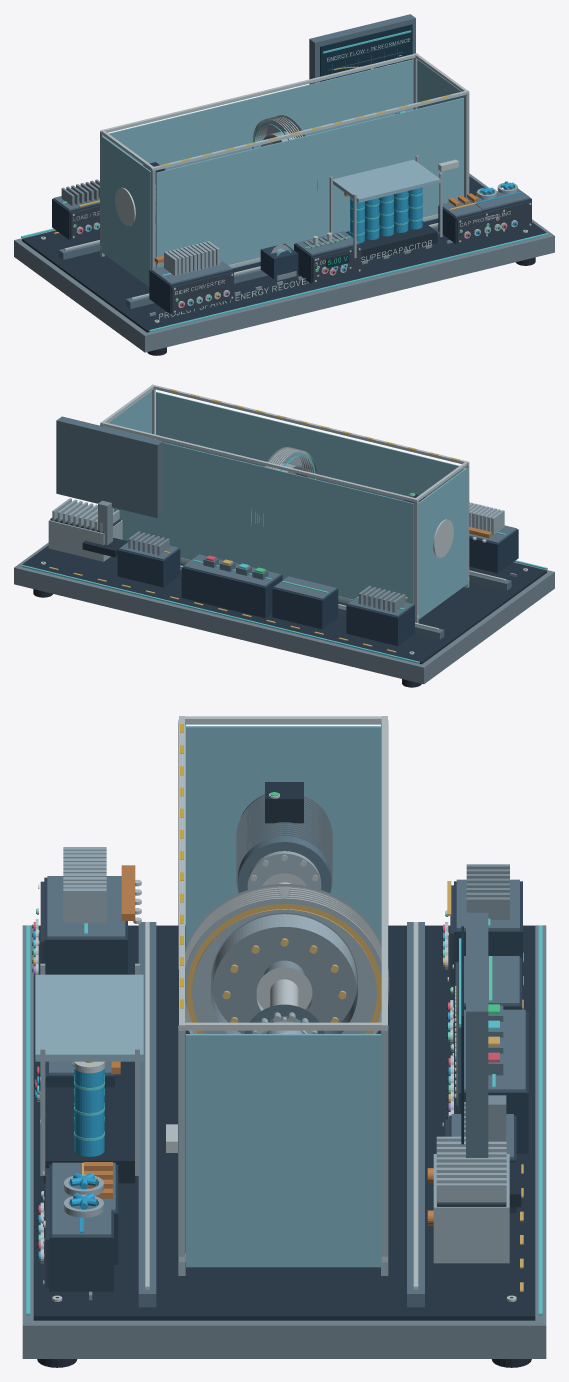
The model's file is Level56_Complete_ArtKit_Showcase.glb.
The picture shows the model from 3 angles, top to bottom: view 1: azimuth 30°, elevation 25°; view 2: azimuth 150°, elevation 25°; view 3: azimuth 270°, elevation 25°; orthographic projection. The views are drawn at different scales.
Parts seen in each view (by area): view 1: L56_SafetyGuard__GuardFrontAcrylic, L56_SafetyGuard__GuardRearAcrylic, L56_IndustrialBase__Chassis_MachinedTitanium, L56_IndustrialBase__CarbonDeck, L56_SafetyGuard__GuardEndPanel_-3.27, L56_EnergyFlowMonitor__DisplayBlackGlass, L56_SupercapacitorBank__BankProtectiveTop, L56_EnergyFlowMonitor__DisplayFrame, L56_SafetyGuard__GuardLongRail_2.53_-0.9, L56_SupercapacitorBank__CapacitorCradle, L56_BidirectionalConverter__BidirectionalConverter_Face, L56_SafetyGuard__GuardLongRail_2.53_0.92 (+25 smaller); view 2: L56_SafetyGuard__GuardRearAcrylic, L56_SafetyGuard__GuardFrontAcrylic, L56_IndustrialBase__Chassis_MachinedTitanium, L56_IndustrialBase__CarbonDeck, L56_EnergyFlowMonitor__DisplayFrame, L56_SafetyGuard__GuardEndPanel_-3.27, L56_RegenerationController__RegenerationController_Chassis, L56_ProgrammableLoad__ProgrammableLoad_Chassis, L56_EnergyMeter__EnergyMeter_Chassis, L56_BrakeChopperDriver__BrakeChopper_Chassis, L56_BrakingResistor__BrakingResistor_CeramicBlock, L56_SafetyGuard__GuardLongRail_2.53_-0.9 (+14 smaller); view 3: L56_IndustrialBase__CarbonDeck, L56_SafetyGuard__GuardEndPanel_3.27, L56_IndustrialBase__Chassis_MachinedTitanium, L56_SafetyGuard__GuardEndPanel_-3.27, L56_SupercapacitorBank__BankProtectiveTop, L56_FlywheelRotor__FlywheelCarbonCore, L56_FlywheelRotor__FlywheelForgedOuterRim, L56_EnergyFlowMonitor__DisplayFrame, L56_IndustrialBase__MountRail_1.23, L56_IndustrialBase__MountRail_-1.18, L56_SupercapacitorBank__CapacitorCradle, L56_BrakingResistor__BrakingResistor_CeramicBlock (+31 smaller).
Part boxes in pixels (x1,y1,x2,y2): L56_SafetyGuard__GuardFrontAcrylic: (156, 97, 463, 268); L56_SafetyGuard__GuardRearAcrylic: (105, 59, 413, 170); L56_IndustrialBase__Chassis_MachinedTitanium: (14, 173, 554, 352); L56_IndustrialBase__CarbonDeck: (22, 176, 546, 332); L56_SafetyGuard__GuardEndPanel_-3.27: (101, 136, 150, 286); L56_EnergyFlowMonitor__DisplayBlackGlass: (320, 24, 412, 81); L56_SupercapacitorBank__BankProtectiveTop: (333, 159, 440, 202); L56_EnergyFlowMonitor__DisplayFrame: (309, 14, 415, 84); L56_SafetyGuard__GuardLongRail_2.53_-0.9: (100, 53, 418, 133); L56_SupercapacitorBank__CapacitorCradle: (345, 221, 437, 261); L56_BidirectionalConverter__BidirectionalConverter_Face: (171, 272, 233, 313); L56_SafetyGuard__GuardLongRail_2.53_0.92: (151, 90, 469, 171); L56_SafetyGuard__GuardRearAcrylic: (113, 442, 413, 604); L56_SafetyGuard__GuardFrontAcrylic: (156, 392, 463, 500); L56_IndustrialBase__Chassis_MachinedTitanium: (14, 542, 554, 684); L56_IndustrialBase__CarbonDeck: (22, 545, 546, 664); L56_EnergyFlowMonitor__DisplayFrame: (56, 416, 163, 518); L56_SafetyGuard__GuardEndPanel_-3.27: (418, 467, 467, 619); L56_RegenerationController__RegenerationController_Chassis: (181, 567, 282, 617); L56_ProgrammableLoad__ProgrammableLoad_Chassis: (346, 604, 414, 646); L56_EnergyMeter__EnergyMeter_Chassis: (272, 587, 338, 629); L56_BrakeChopperDriver__BrakeChopper_Chassis: (117, 548, 180, 587); L56_BrakingResistor__BrakingResistor_CeramicBlock: (48, 520, 122, 561); L56_SafetyGuard__GuardLongRail_2.53_-0.9: (100, 422, 418, 502); L56_IndustrialBase__CarbonDeck: (33, 926, 535, 1320); L56_SafetyGuard__GuardEndPanel_3.27: (186, 1034, 382, 1267); L56_IndustrialBase__Chassis_MachinedTitanium: (22, 925, 546, 1358); L56_SafetyGuard__GuardEndPanel_-3.27: (186, 726, 380, 945); L56_SupercapacitorBank__BankProtectiveTop: (35, 974, 143, 1061); L56_FlywheelRotor__FlywheelCarbonCore: (211, 913, 357, 1033); L56_FlywheelRotor__FlywheelForgedOuterRim: (185, 884, 389, 1033); L56_EnergyFlowMonitor__DisplayFrame: (466, 912, 488, 1157); L56_IndustrialBase__MountRail_1.23: (138, 922, 156, 1307); L56_IndustrialBase__MountRail_-1.18: (407, 922, 424, 1307); L56_SupercapacitorBank__CapacitorCradle: (44, 1083, 135, 1183); L56_BrakingResistor__BrakingResistor_CeramicBlock: (433, 1154, 509, 1263).
Bounding box in the file's own units: 8.5 × 3.38 × 4.7.
